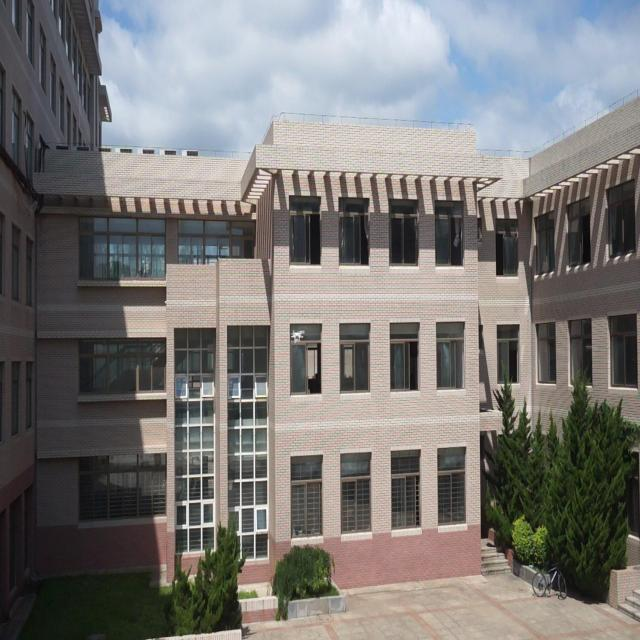drone: (290, 325, 305, 345)
